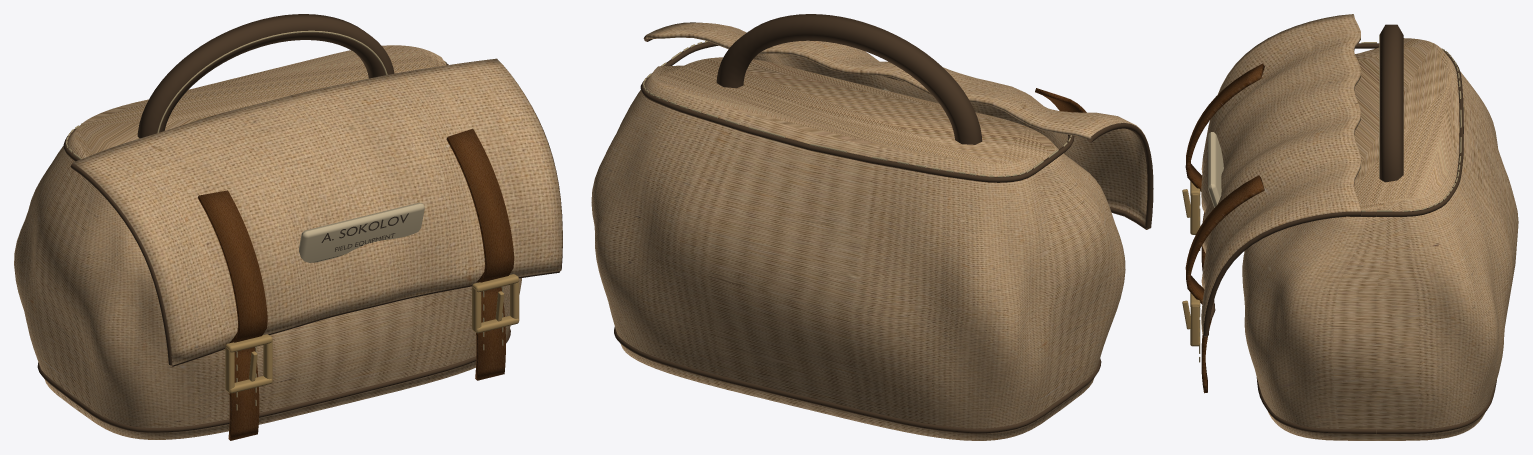
The model's file is canvas-satchel.glb.
3 views of the same model, side by side, from view 1: azimuth 30°, elevation 25°; view 2: azimuth 150°, elevation 25°; view 3: azimuth 270°, elevation 25° (orthographic). The views are drawn at different scales.
Visible parts, largest first — view 1: canvas-satchel; view 2: canvas-satchel; view 3: canvas-satchel.
Boxes of the visible parts, <box> form: canvas-satchel: <box>14,14,562,440</box>; canvas-satchel: <box>591,14,1153,440</box>; canvas-satchel: <box>1182,14,1518,440</box>.
Bounding box in the file's own units: 0.4207 × 0.3024 × 0.2982.
7 materials, 2 textured.
